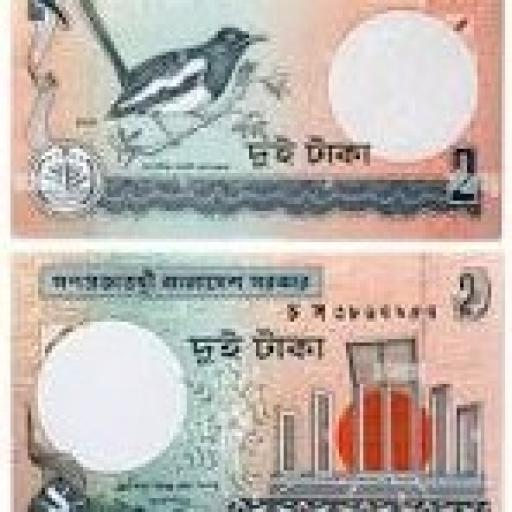2taka: (14, 256, 495, 509), (10, 0, 502, 235)
